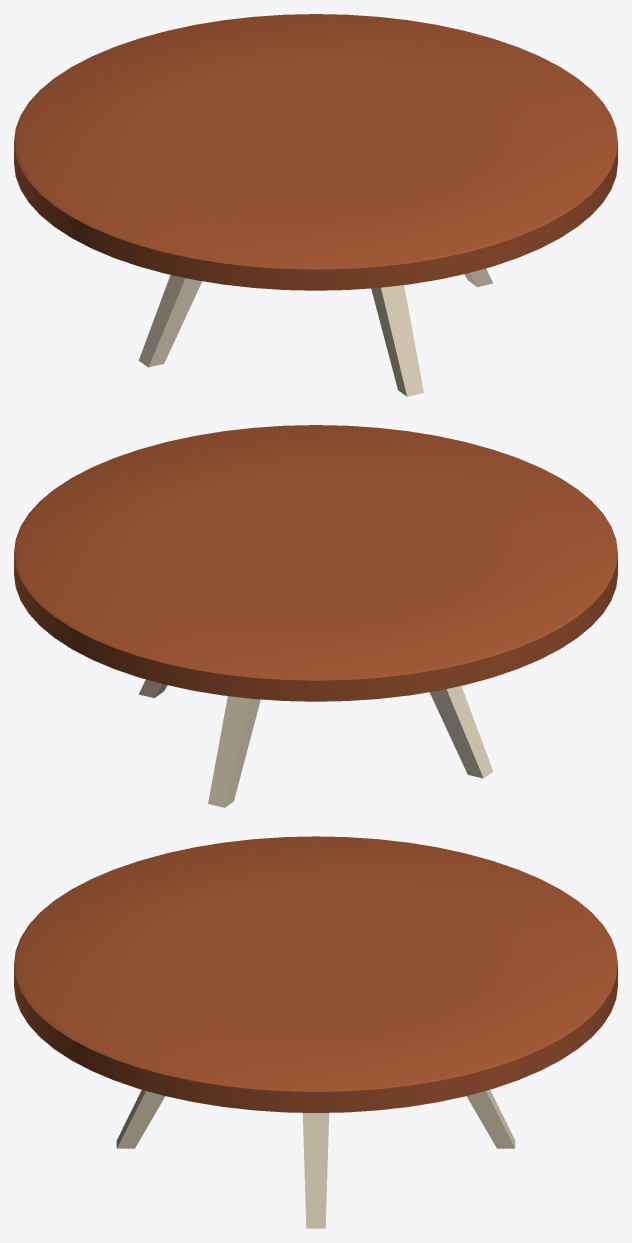
The model's file is table_wood.glb.
3 views of the same model, one above another, from view 1: azimuth 30°, elevation 25°; view 2: azimuth 150°, elevation 25°; view 3: azimuth 270°, elevation 25° (orthographic).
Parts seen in each view (by area): view 1: Cylinder002, Object002, Object001; view 2: Cylinder002, Object004, Object001; view 3: Cylinder002, Object003, Object002, Object004.
Boxes of the visible parts, x1=… form: Cylinder002: x1=14, y1=14, x2=617, y2=290; Object002: x1=371, y1=285, x2=423, y2=396; Object001: x1=138, y1=275, x2=201, y2=367; Cylinder002: x1=14, y1=425, x2=617, y2=701; Object004: x1=208, y1=696, x2=260, y2=807; Object001: x1=430, y1=686, x2=493, y2=778; Cylinder002: x1=14, y1=836, x2=617, y2=1112; Object003: x1=302, y1=1113, x2=329, y2=1228; Object002: x1=116, y1=1090, x2=165, y2=1148; Object004: x1=466, y1=1090, x2=515, y2=1148.
Size of the model in its own units: 0.1193 by 0.0397 by 0.1193.
Materials: 1 (1 with a texture image).
